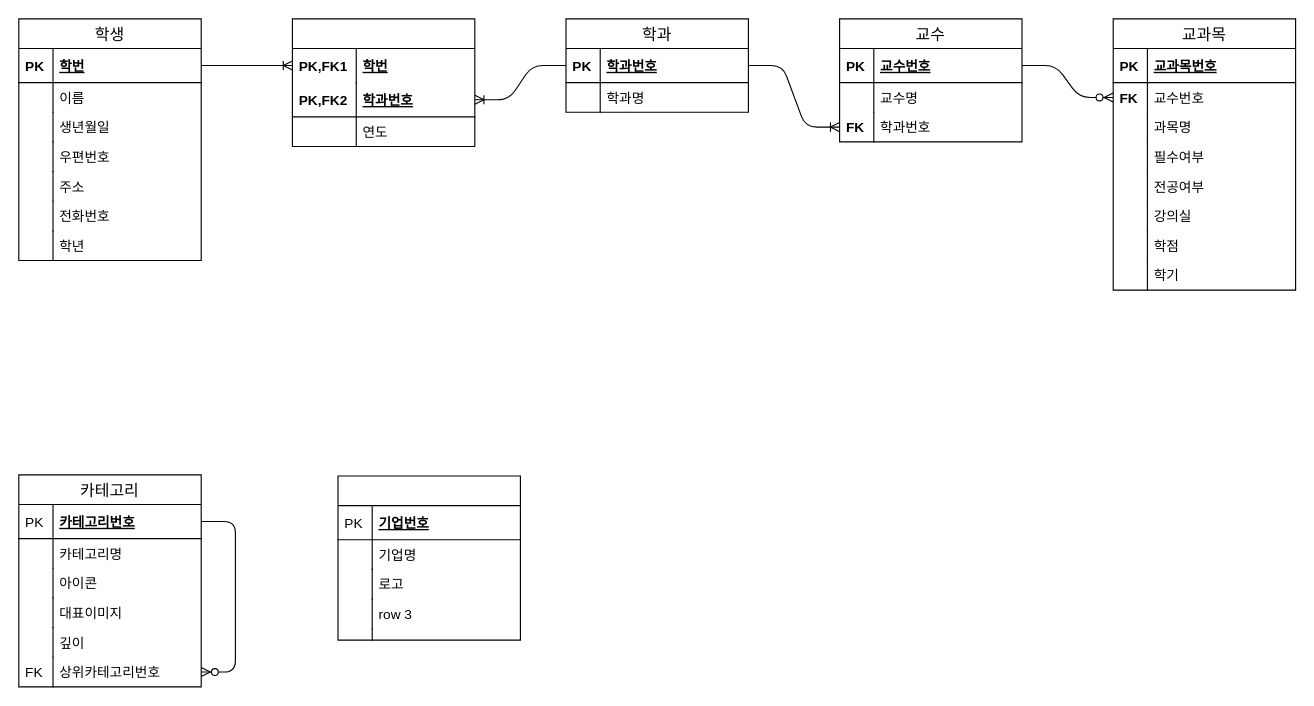
Image size: 1314x706. Some labels were removed from this diagram. Here are the shapes that lost their labels. From the top down, the box of each, then its label:
(291, 18, 475, 146): 학생_학과
(337, 475, 520, 640): 기업
